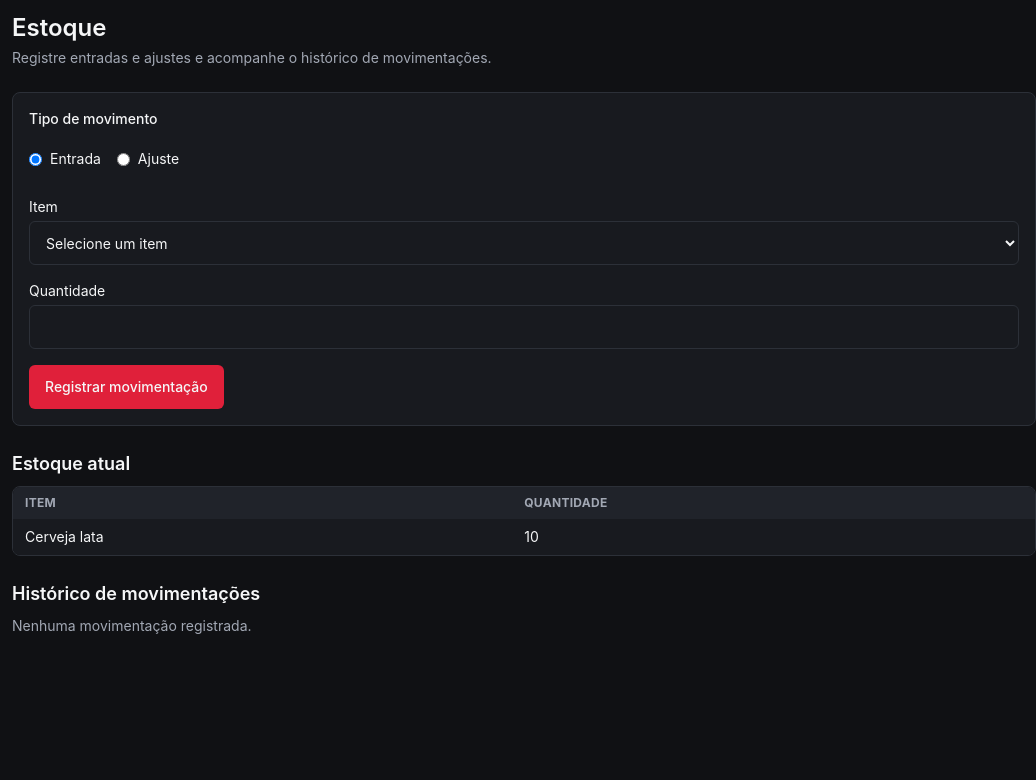
Test: InventoryView › registers an entry and increases the displayed current stock
This screenshot has width=1036, height=780.
Check: the text "10" is shown, box [524,528,539,545]
Click the radio button labelled "Entrada": (36, 159) [29,152,42,166]
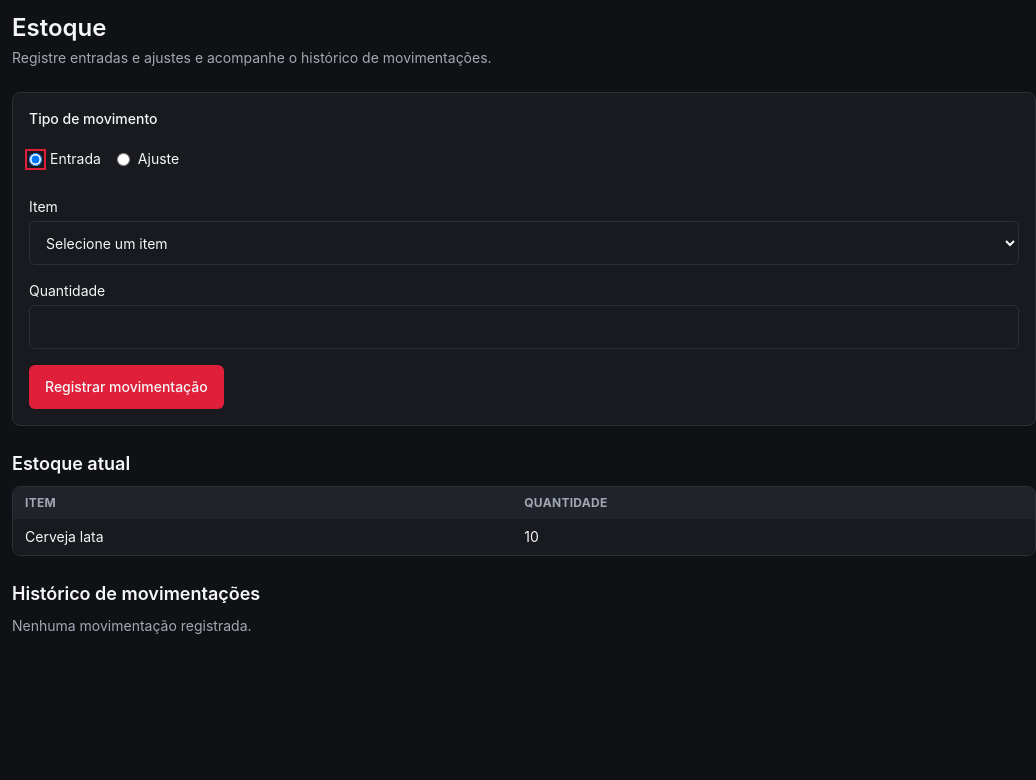
Select "Cerveja lata" in the dropdown labelled "Item": (524, 243) [29,221,1019,265]
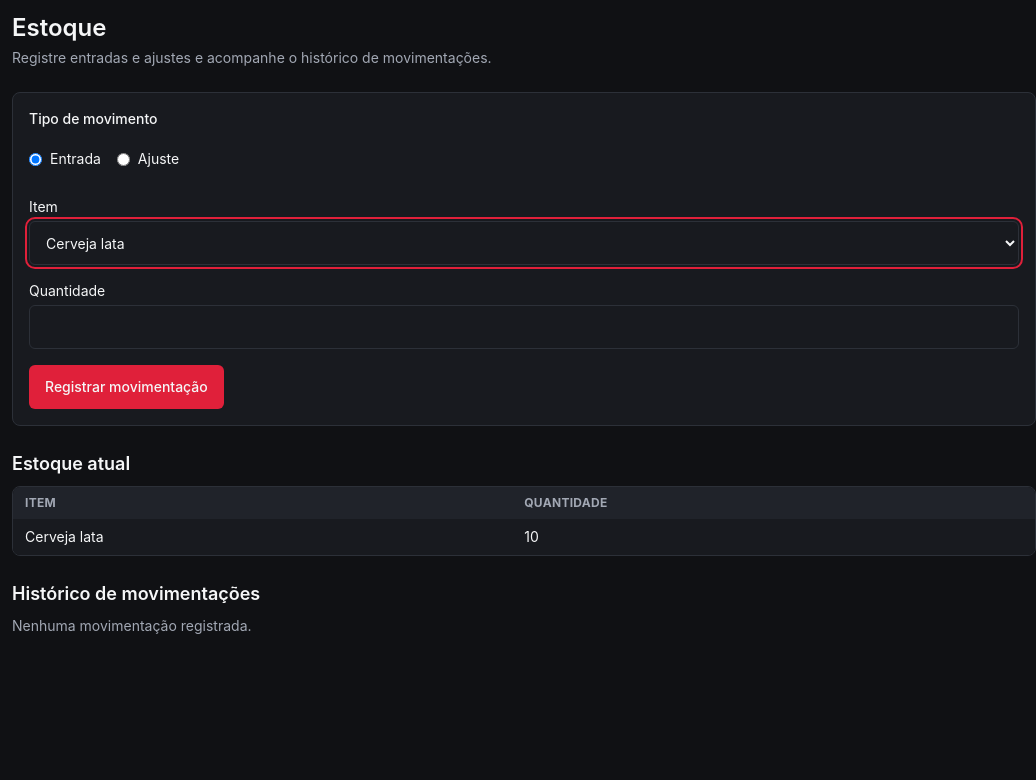
In the field labelled "Quantidade": (524, 327) [29,305,1019,349], type "5"
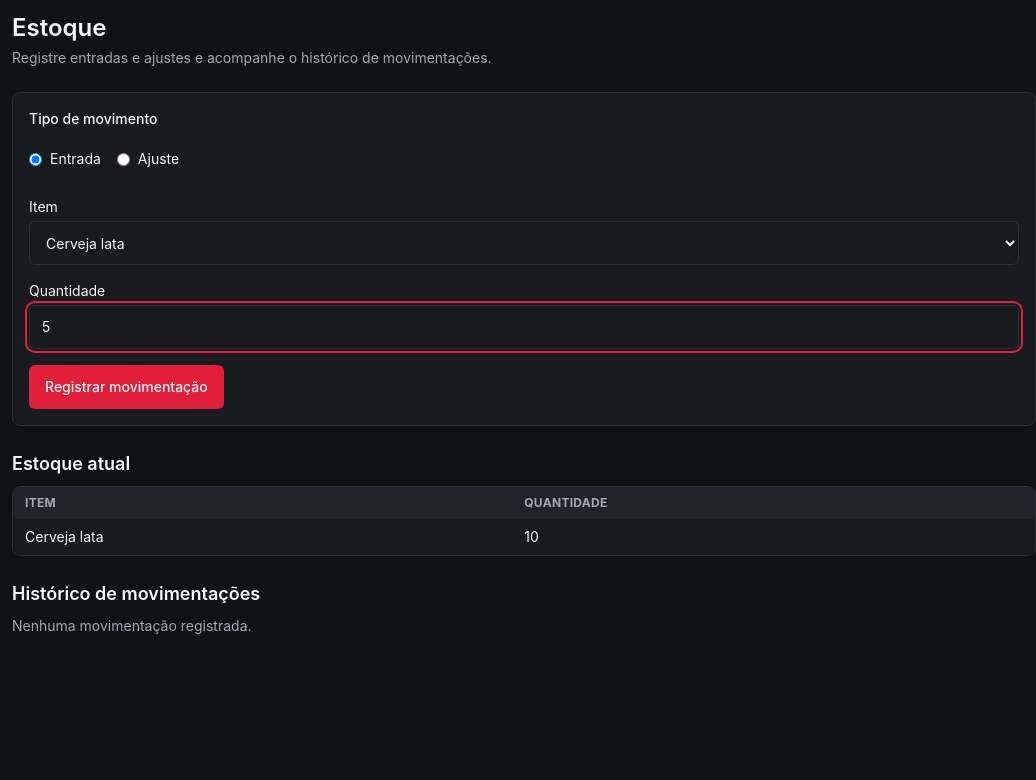
Click the button "Registrar movimentação": (126, 387) [29,365,224,409]
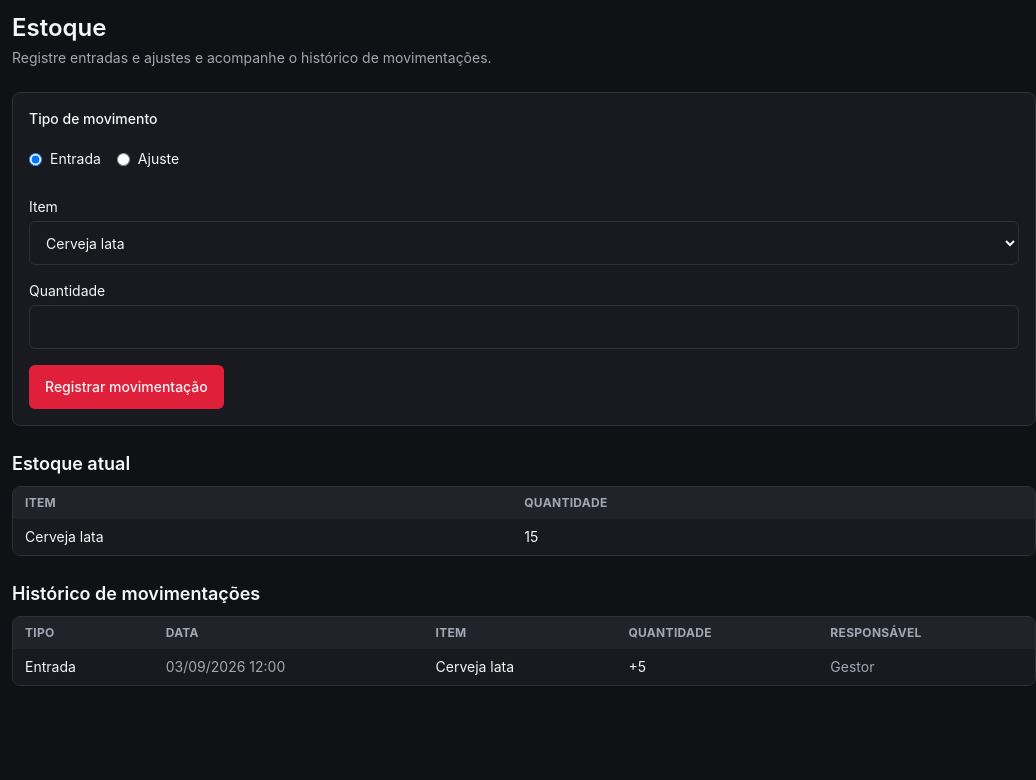
Check: the text "15" is shown, box [524,528,538,545]
Check: the text "10" is gone
